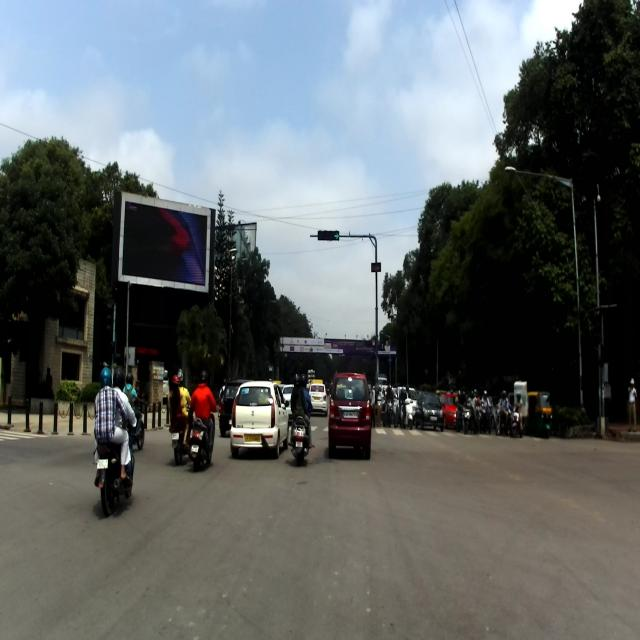Car_Maruti-Suzuki: (327, 369, 372, 458), (415, 390, 445, 434)
Car_TATA: (229, 378, 289, 459)
autorickshaw: (524, 390, 554, 438)
motorcycle: (171, 400, 196, 466), (131, 396, 147, 449)
motorcycle_Honda: (94, 411, 137, 517)
scooter: (189, 406, 217, 472), (290, 402, 314, 466)
